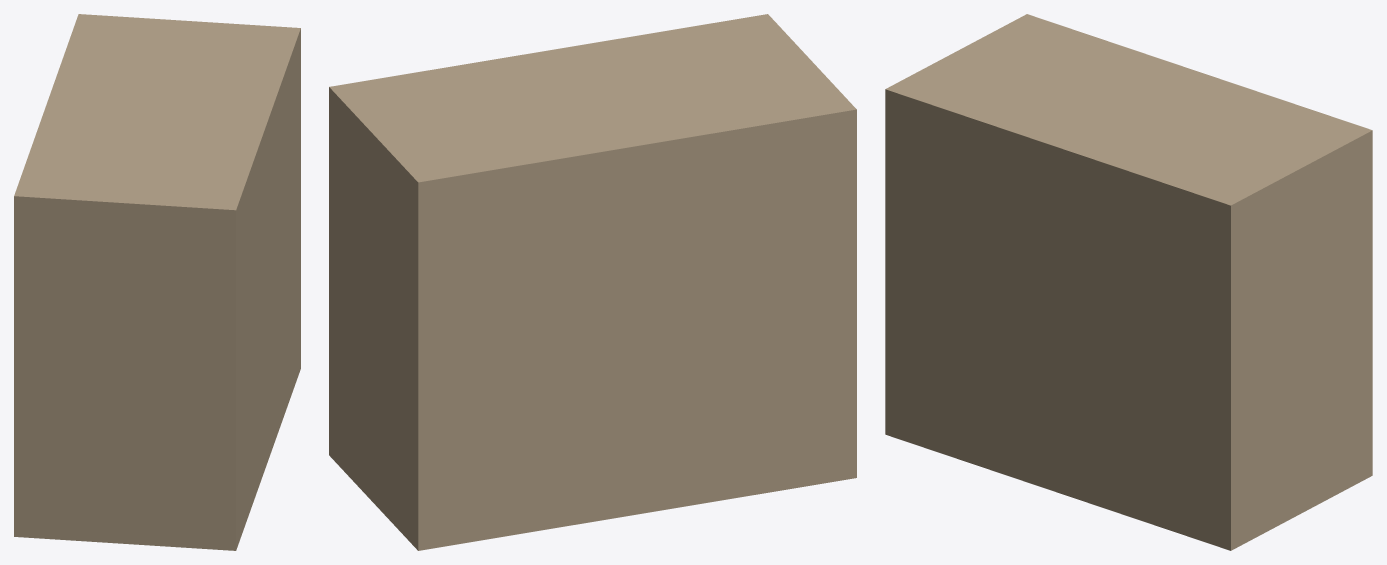
Rendered from bld_164605966.dae.
3 renders of one model, left to right at view 1: azimuth 30°, elevation 25°; view 2: azimuth 150°, elevation 25°; view 3: azimuth 270°, elevation 25°, orthographic. The views are drawn at different scales.
Visible parts, largest first — view 1: bld_164605966; view 2: bld_164605966; view 3: bld_164605966.
Part boxes in pixels (x1,y1,x2,y2): bld_164605966: [14, 14, 300, 550]; bld_164605966: [329, 14, 856, 550]; bld_164605966: [885, 14, 1372, 550].
Size of the model in its own units: 9.52 by 10.24 by 8.
